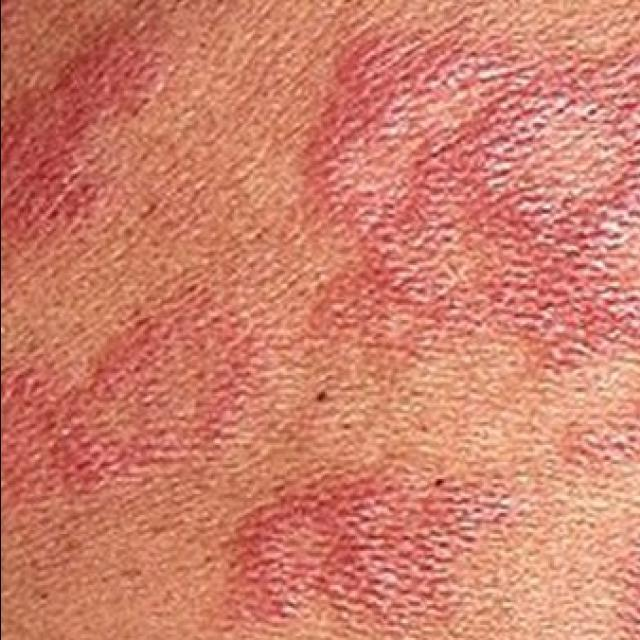Leprosy: (311, 4, 640, 480), (0, 2, 193, 267), (231, 482, 534, 632), (55, 296, 269, 498), (596, 524, 640, 640)
